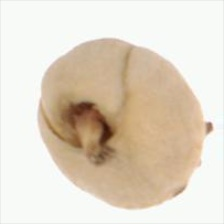L3: (58, 99, 120, 158)
L4: (38, 38, 212, 210)
